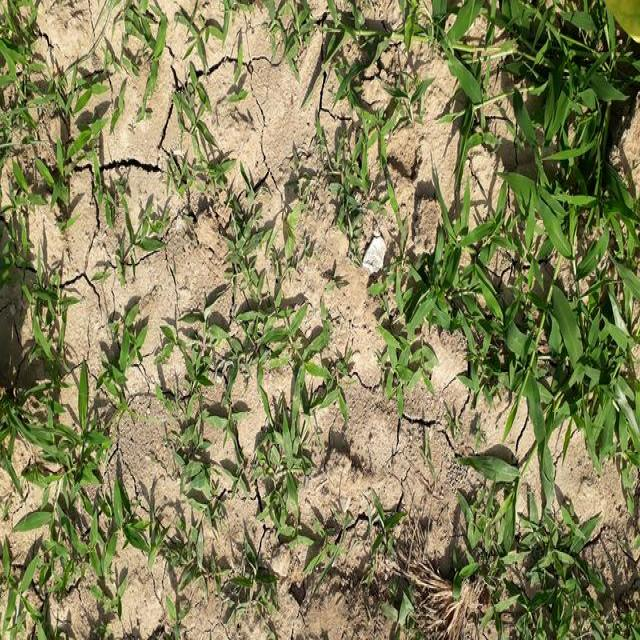weed: (438, 1, 640, 417), (0, 237, 129, 598), (160, 311, 316, 582), (472, 440, 640, 640), (170, 87, 271, 281), (326, 25, 440, 196), (18, 43, 115, 237), (378, 287, 437, 410)
